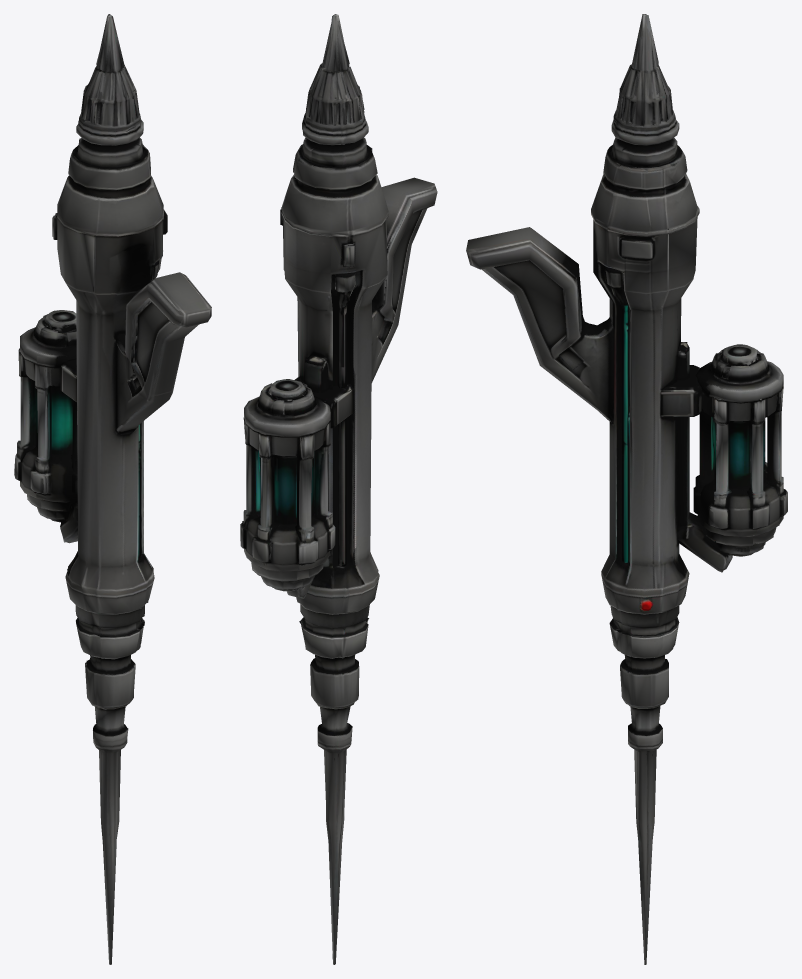
Rendered from needle-spindle.glb.
3 views of the same model, side by side, from view 1: azimuth 30°, elevation 25°; view 2: azimuth 150°, elevation 25°; view 3: azimuth 270°, elevation 25° (orthographic).
Parts seen in each view (by area): view 1: tripo_node_34c22f58-a56c-4017-85e3-972a1b5bf2cf; view 2: tripo_node_34c22f58-a56c-4017-85e3-972a1b5bf2cf; view 3: tripo_node_34c22f58-a56c-4017-85e3-972a1b5bf2cf.
Part boxes in pixels (<box>): tripo_node_34c22f58-a56c-4017-85e3-972a1b5bf2cf: <box>14,14,211,964</box>; tripo_node_34c22f58-a56c-4017-85e3-972a1b5bf2cf: <box>240,14,437,964</box>; tripo_node_34c22f58-a56c-4017-85e3-972a1b5bf2cf: <box>466,14,787,964</box>.
Size of the model in its own units: 0.1074 by 0.998 by 0.3066.
1 material, 1 textured.
